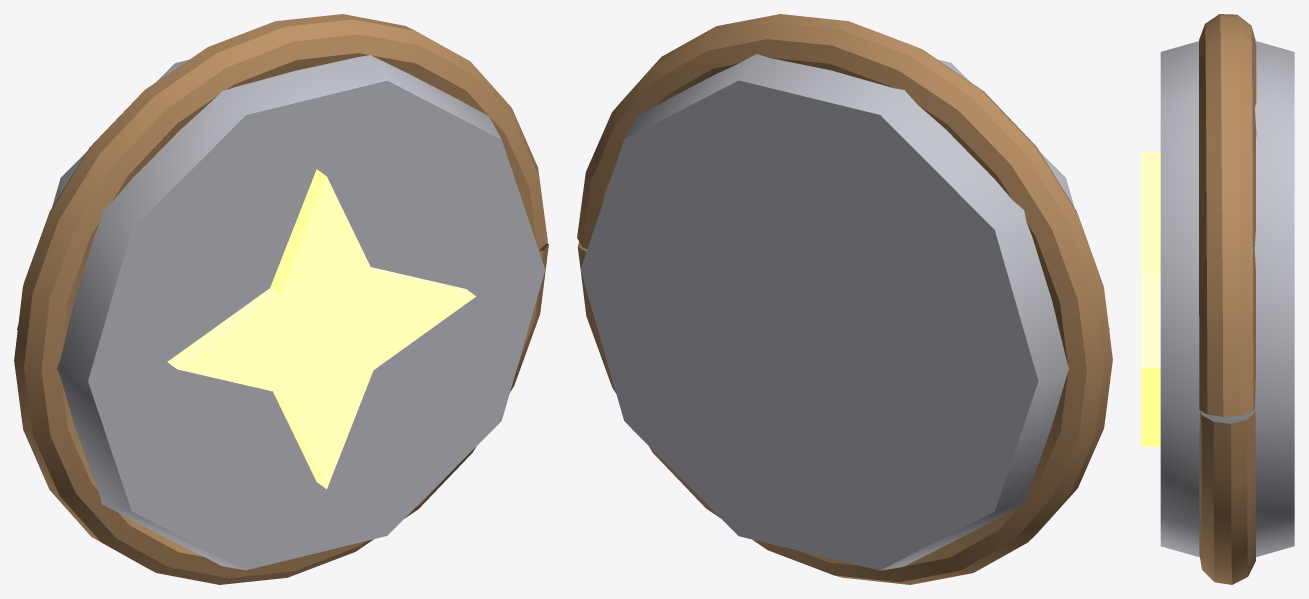
The model's file is ITEM_Rune_Yellow.fbx.
3 renders of one model, left to right at view 1: azimuth 30°, elevation 25°; view 2: azimuth 150°, elevation 25°; view 3: azimuth 270°, elevation 25°, orthographic. The views are drawn at different scales.
Parts seen in each view (by area): view 1: ITEM_Rune_Yellow; view 2: ITEM_Rune_Yellow; view 3: ITEM_Rune_Yellow.
Boxes of the visible parts, box(x1,y1,x2,y2) form: ITEM_Rune_Yellow: box(14, 14, 548, 584); ITEM_Rune_Yellow: box(577, 14, 1112, 584); ITEM_Rune_Yellow: box(1141, 14, 1294, 584).
Size of the model in its own units: 0.5983 by 0.5986 by 0.16.
